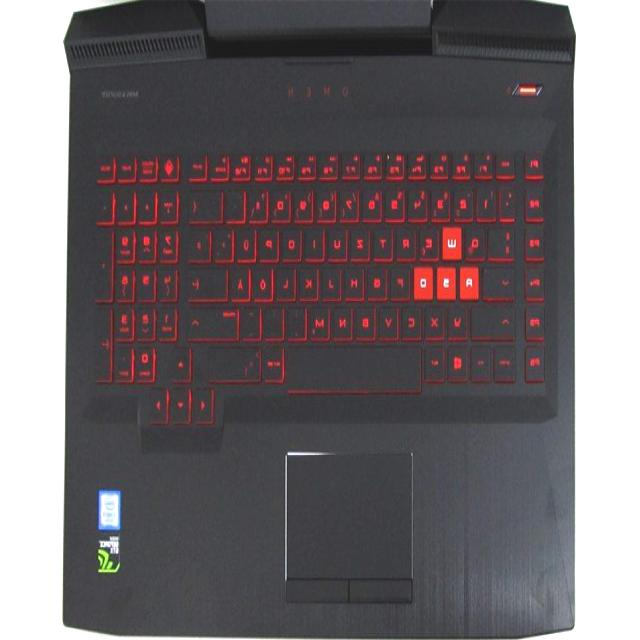0: (272, 184, 293, 218)
1: (478, 182, 499, 216)
2: (455, 184, 475, 216)
3: (433, 185, 453, 216)
4: (410, 184, 430, 218)
5: (387, 185, 407, 217)
6: (364, 185, 384, 217)
7: (341, 184, 361, 218)
8: (318, 184, 338, 218)
9: (295, 185, 315, 217)
a: (461, 262, 482, 296)
accent: (227, 185, 247, 217)
ae: (232, 259, 253, 297)
alt-left: (425, 340, 447, 380)
altgr-right: (264, 340, 286, 380)
b: (356, 299, 378, 337)
c: (402, 300, 424, 336)
caret: (501, 185, 518, 215)
comma: (287, 300, 308, 336)
d: (415, 262, 436, 298)
del: (191, 184, 225, 218)
e: (421, 220, 441, 256)
enter: (188, 260, 230, 296)
f: (392, 259, 413, 296)
g: (369, 259, 389, 296)
h: (346, 259, 367, 296)
hash: (188, 222, 213, 258)
i: (305, 220, 326, 256)
j: (323, 260, 343, 296)
k: (300, 260, 321, 296)
keyboard: (90, 141, 554, 439)
l: (278, 260, 298, 296)
less: (194, 338, 262, 380)
m: (311, 300, 333, 337)
minus: (242, 301, 262, 335)
n: (333, 300, 355, 337)
o: (283, 221, 304, 257)
oe: (254, 261, 276, 298)
p: (260, 220, 281, 257)
plus: (216, 221, 236, 257)
point: (264, 301, 285, 337)
q: (467, 220, 488, 256)
r: (397, 220, 418, 256)
s: (438, 262, 459, 298)
shift-left: (473, 298, 517, 336)
shift-lock: (485, 261, 517, 295)
shift-right: (189, 300, 241, 337)
space: (288, 338, 424, 390)
ss: (250, 185, 270, 217)
strg-left: (494, 343, 516, 383)
t: (375, 220, 395, 254)
tab: (490, 220, 518, 256)
u: (328, 220, 350, 257)
ue: (237, 220, 259, 257)
v: (380, 300, 400, 336)
w: (444, 221, 465, 257)
x: (426, 300, 447, 336)
y: (448, 302, 469, 338)
z: (352, 221, 372, 255)
